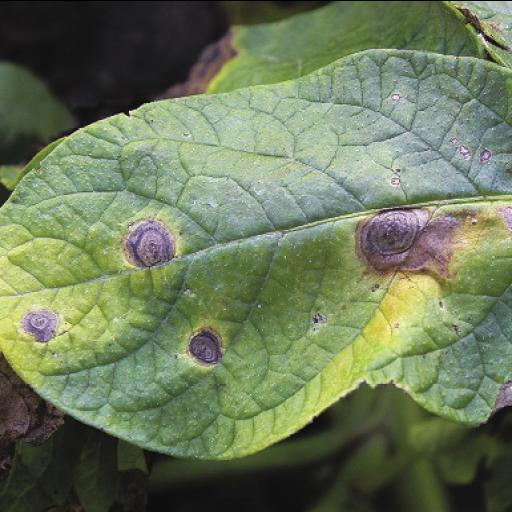disease_tomato: (2, 47, 512, 459)
